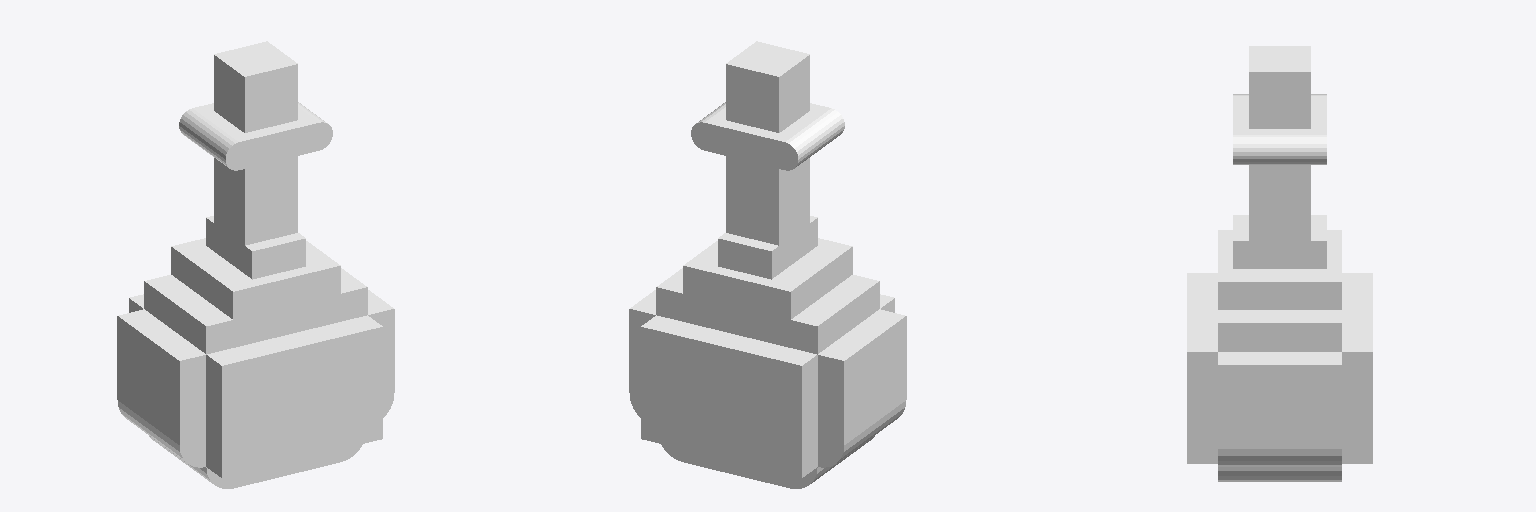
The model's file is bottle-potion-atlas.obj.
3 renders of one model, left to right at view 1: azimuth 30°, elevation 25°; view 2: azimuth 150°, elevation 25°; view 3: azimuth 270°, elevation 25°, orthographic.
Bounding box in the file's own units: 8 × 14 × 6.